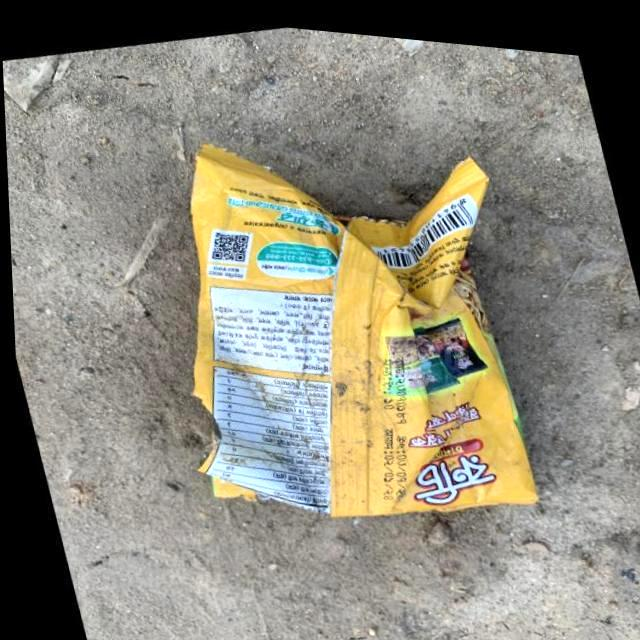packet: (192, 156, 518, 516)
